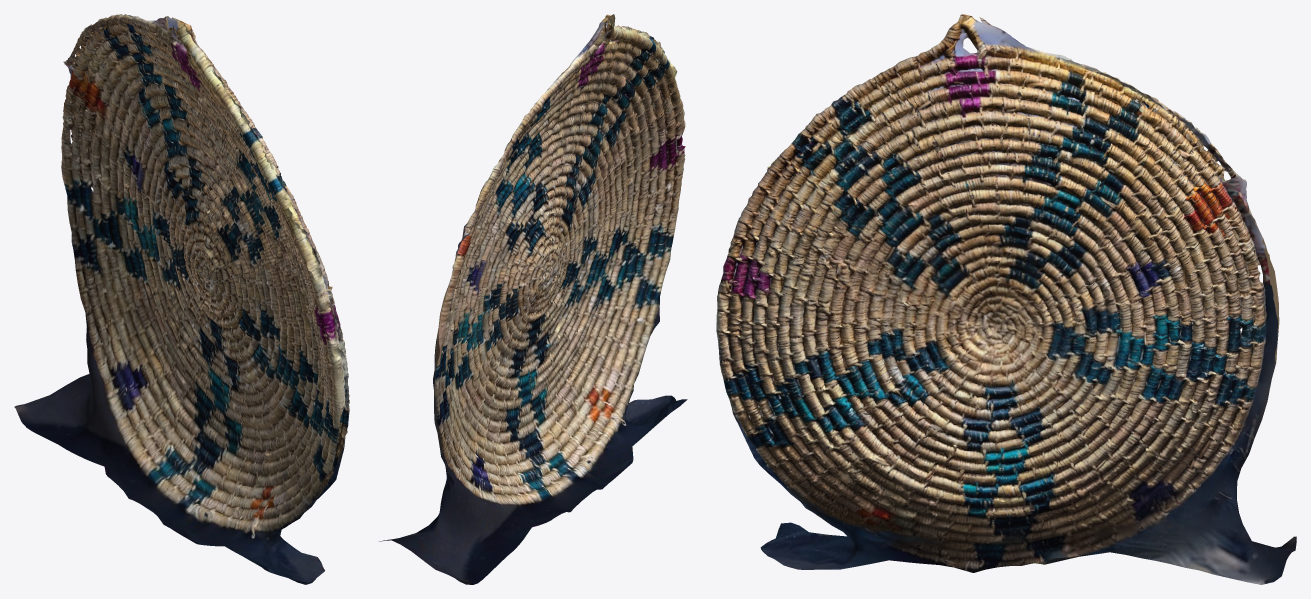
Rendered from decorative_item.glb.
3 renders of one model, left to right at view 1: azimuth 30°, elevation 25°; view 2: azimuth 150°, elevation 25°; view 3: azimuth 270°, elevation 25°, orthographic. The views are drawn at different scales.
Visible parts, largest first — view 1: Object_2; view 2: Object_2; view 3: Object_2.
Part boxes in pixels (<box>): Object_2: <box>14,14,349,584</box>; Object_2: <box>379,14,687,584</box>; Object_2: <box>716,14,1296,584</box>.
Bounding box in the file's own units: 0.1466 × 0.6712 × 0.6597.
Materials: 1 (1 with a texture image).
